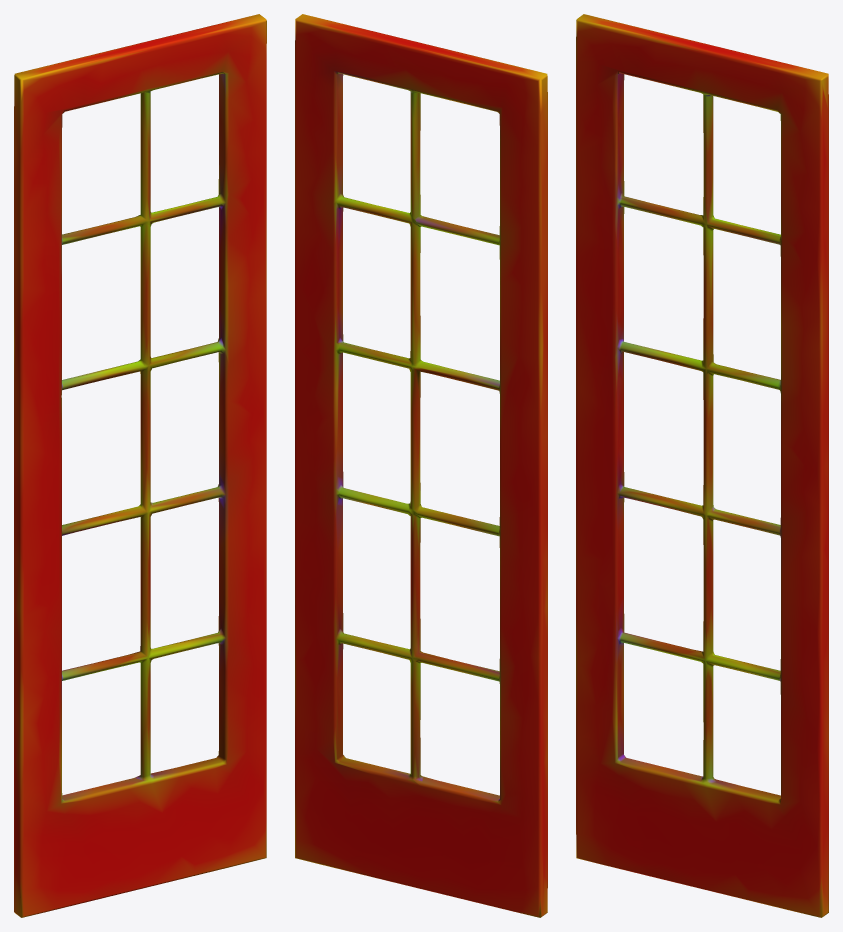
The model's file is Door.fbx.
3 renders of one model, left to right at view 1: azimuth 30°, elevation 25°; view 2: azimuth 150°, elevation 25°; view 3: azimuth 330°, elevation 25°, orthographic.
Visible parts, largest first — view 1: transform1; view 2: transform1; view 3: transform1.
Boxes of the visible parts, box(x1,y1,x2,y2) form: transform1: box(14, 14, 266, 917); transform1: box(295, 14, 547, 917); transform1: box(576, 14, 828, 917).
Size of the model in its own units: 95.83 by 5.5 by 311.
